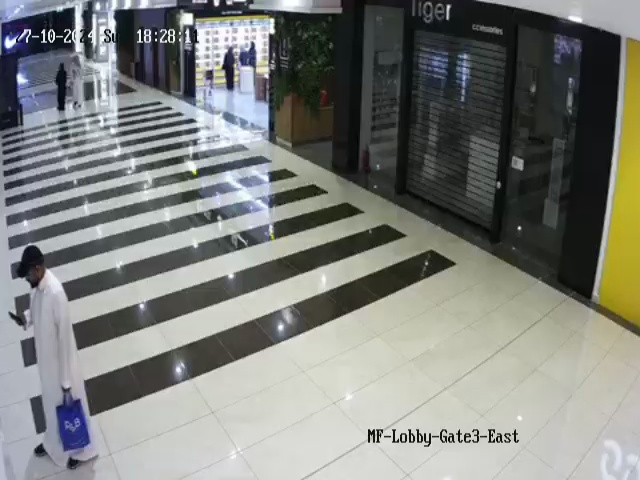female: (221, 46, 236, 91), (54, 63, 67, 111)
male: (15, 245, 99, 470), (69, 53, 92, 115)
